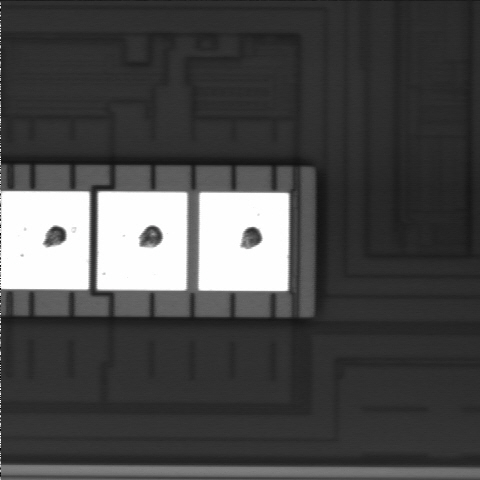pad: (97, 192, 187, 290), (199, 193, 289, 291)
